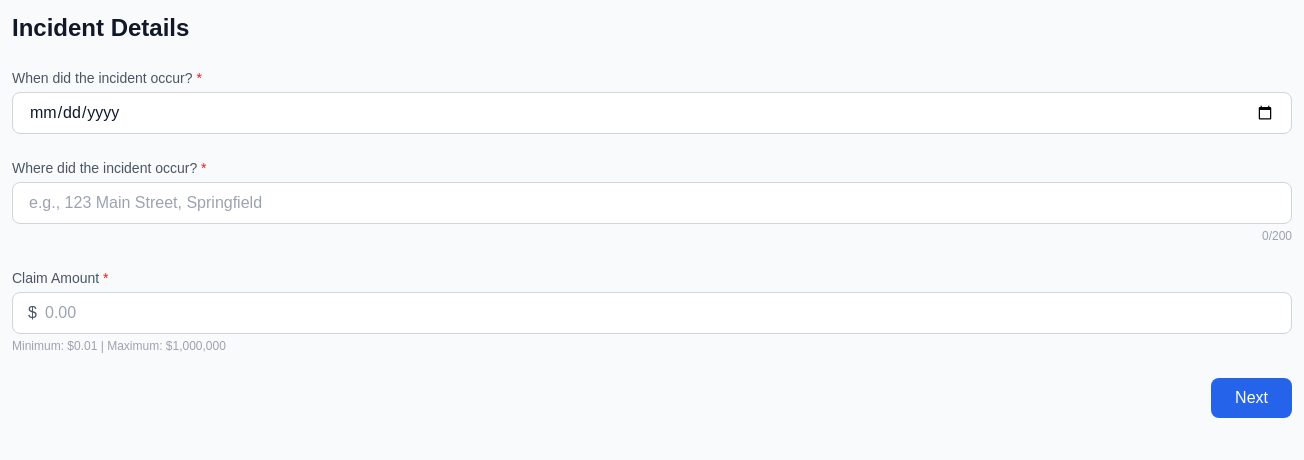
Test: WizardStep1 › Field Validation › should show error for claim amount above maximum
Type "2000000" into the number field labelled "Claim Amount *" at (652, 313), box [12,292,1292,334]
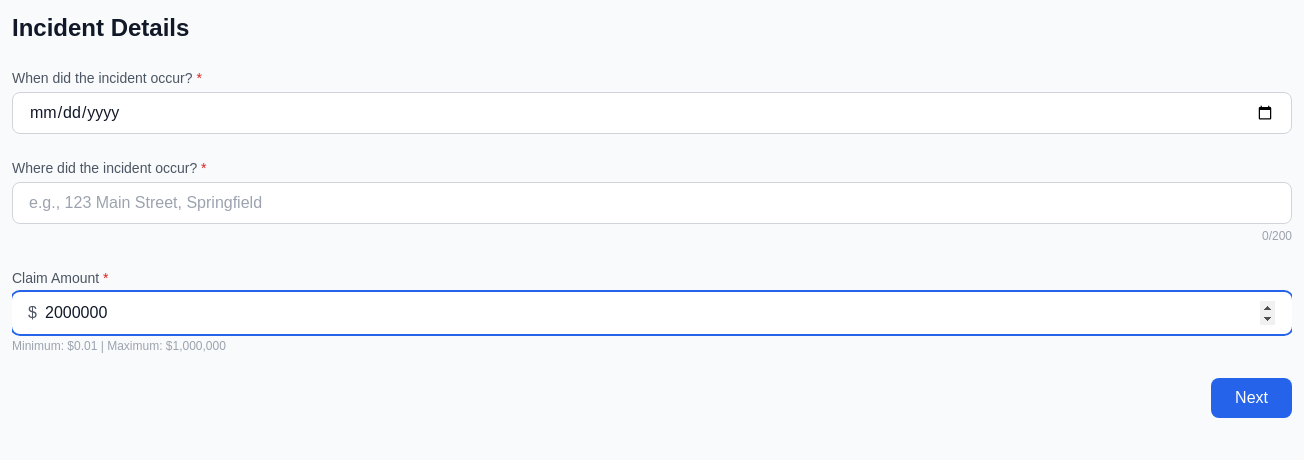
Press Tab
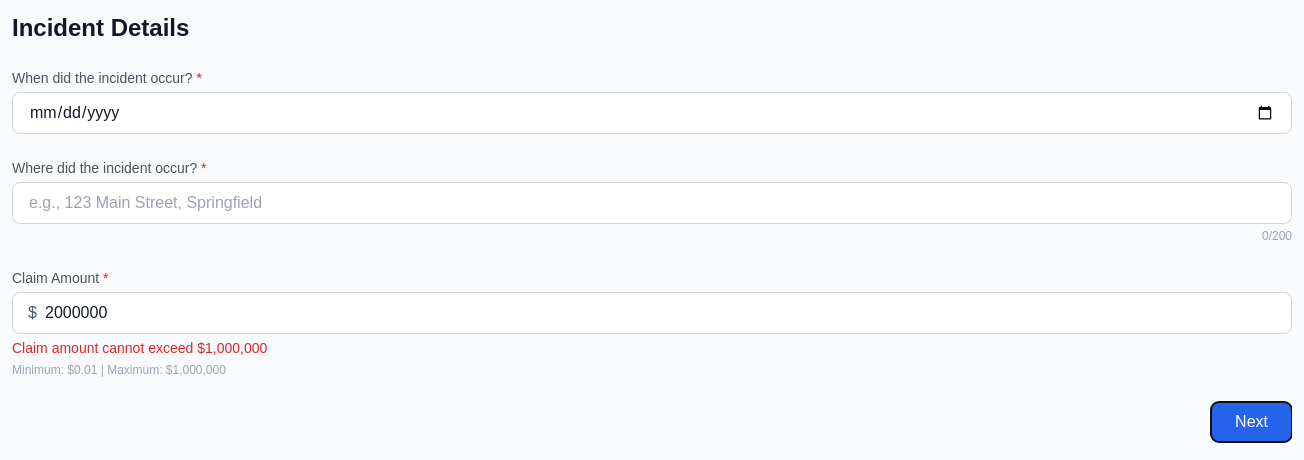
Check: the text "Claim amount cannot exceed $1,000,000" is shown, box [12,340,267,356]
